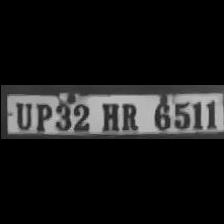1: (200, 100, 218, 130), (192, 100, 208, 130)
2: (70, 100, 92, 132)
3: (52, 100, 70, 132)
5: (170, 99, 192, 130)
6: (148, 101, 170, 131)
H: (96, 100, 120, 132)
P: (32, 101, 52, 131)
R: (118, 100, 140, 132)
U: (10, 100, 32, 130)
